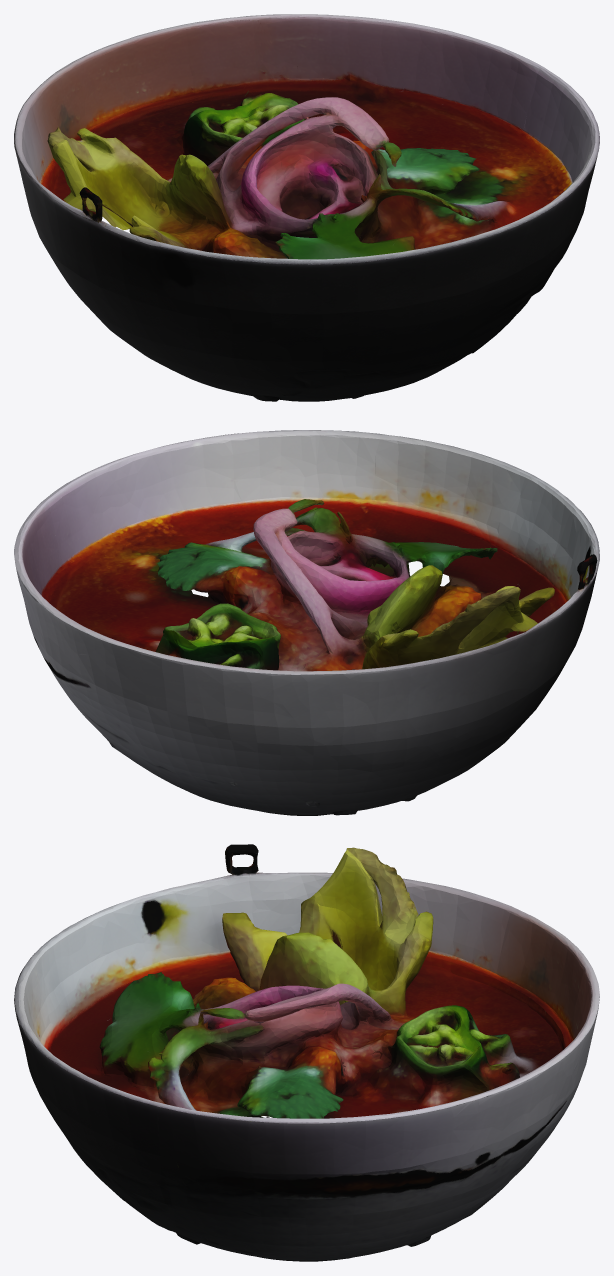
The model's file is consome-birria.glb.
The picture shows the model from 3 angles, top to bottom: view 1: azimuth 30°, elevation 25°; view 2: azimuth 150°, elevation 25°; view 3: azimuth 270°, elevation 25°; orthographic projection.
Visible parts, largest first — view 1: world; view 2: world; view 3: world.
Boxes of the visible parts, bbox=[...] form: world: bbox=[14, 14, 599, 401]; world: bbox=[14, 430, 599, 815]; world: bbox=[14, 844, 599, 1261].
Size of the model in its own units: 0.9992 by 0.4851 by 0.9983.
Materials: 1 (1 with a texture image).
